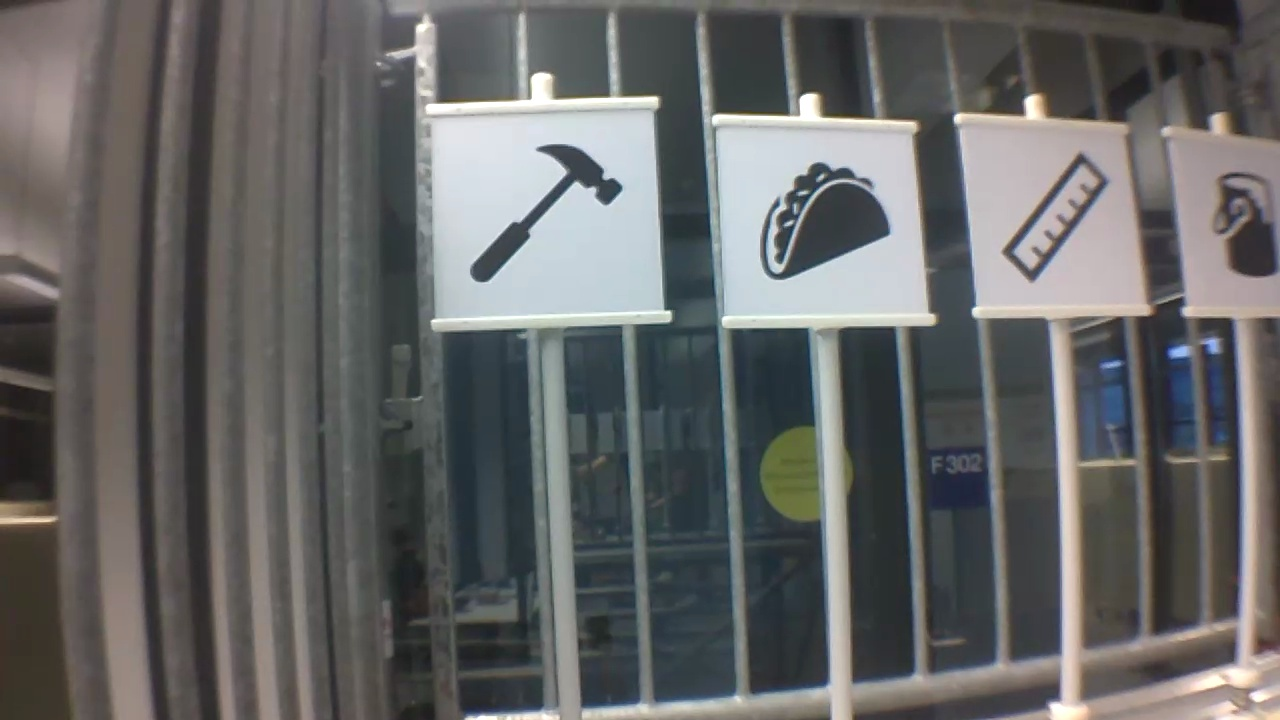bucket: (1206, 167, 1280, 282)
ruler: (996, 146, 1116, 290)
taco: (757, 155, 897, 282)
